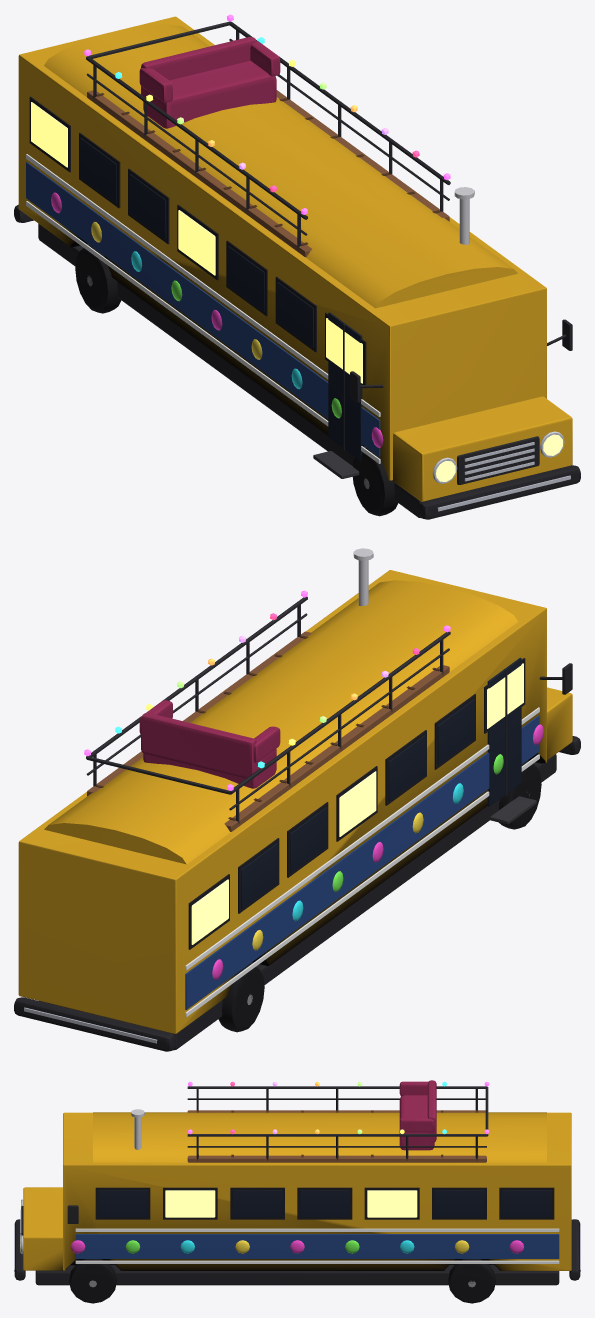
The model's file is bus.glb.
3 views of the same model, one above another, from view 1: azimuth 30°, elevation 25°; view 2: azimuth 150°, elevation 25°; view 3: azimuth 270°, elevation 25° (orthographic). The views are drawn at different scales.
Parts seen in each view (by area): view 1: body.001, roofcap, belt_0, hood, chassis, couch_seat, deck, bumper_1, couch_back, door, tyre_1_0, stripe2_0 (+17 smaller); view 2: body.001, roofcap, belt_0, chassis, couch_back, deck, bumper_0, door, stripe2_0, stripe_0, tyre_1_0, hood (+16 smaller); view 3: body.001, roofcap, belt_1, chassis, hood, deck, stripe2_1, stripe_1, tyre_1_1, tyre_0_1, win_1_1, win_2_1 (+22 smaller).
Part boxes in pixels (left/top/right/bottom): body.001: left=18, top=16, right=546, bottom=480; roofcap: left=44, top=24, right=517, bottom=308; belt_0: left=26, top=162, right=380, bottom=456; hood: left=393, top=396, right=572, bottom=501; chassis: left=38, top=223, right=421, bottom=518; couch_seat: left=143, top=60, right=276, bottom=128; deck: left=87, top=90, right=449, bottom=257; bumper_1: left=419, top=465, right=580, bottom=519; couch_back: left=141, top=37, right=256, bottom=101; door: left=328, top=312, right=362, bottom=461; tyre_1_0: left=75, top=245, right=121, bottom=313; stripe2_0: left=26, top=201, right=380, bottom=463; body.001: left=18, top=570, right=546, bottom=1033; roofcap: left=44, top=580, right=518, bottom=864; belt_0: left=185, top=715, right=539, bottom=1009; chassis: left=41, top=754, right=556, bottom=1050; couch_back: left=141, top=713, right=256, bottom=778; deck: left=87, top=631, right=449, bottom=831; bumper_0: left=14, top=997, right=175, bottom=1051; door: left=487, top=657, right=521, bottom=806; stripe2_0: left=185, top=754, right=539, bottom=1017; stripe_0: left=185, top=707, right=539, bottom=970; tyre_1_0: left=218, top=964, right=264, bottom=1032; hood: left=528, top=687, right=572, bottom=763; body.001: left=63, top=1112, right=571, bottom=1270; roofcap: left=93, top=1112, right=546, bottom=1162; belt_1: left=75, top=1234, right=559, bottom=1258; chassis: left=35, top=1264, right=559, bottom=1285; hood: left=23, top=1187, right=81, bottom=1270; deck: left=187, top=1110, right=486, bottom=1162; stripe2_1: left=75, top=1260, right=559, bottom=1263; stripe_1: left=75, top=1228, right=559, bottom=1231; tyre_1_1: left=448, top=1259, right=495, bottom=1303; tyre_0_1: left=69, top=1259, right=116, bottom=1303; win_1_1: left=434, top=1190, right=484, bottom=1217; win_2_1: left=367, top=1190, right=417, bottom=1217.
Size of the model in its own units: 3.42 by 4.06 by 11.37.
